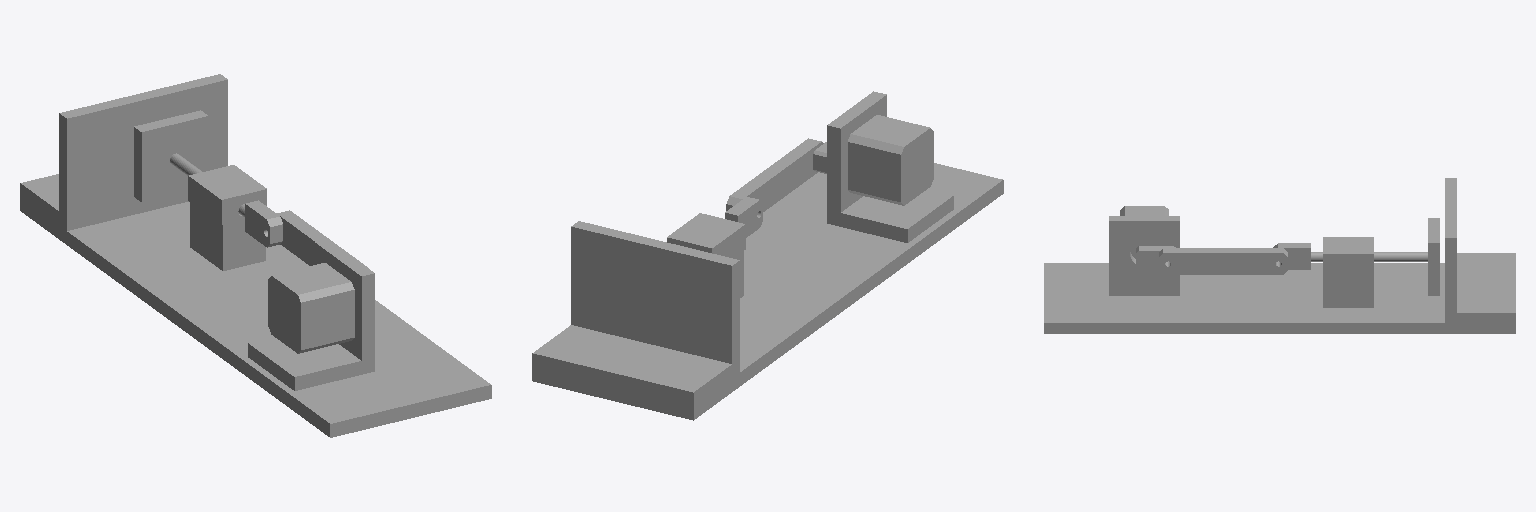
robot.urdf — Crusher:
<?xml version="1.0" ?>
<!-- =================================================================================== -->
<!-- |    This document was autogenerated by xacro from [local-path]/Desktop/Seongjin/genesis_simulation_on_linux/My_asset/Crusher_description/urdf/Crusher.xacro | -->
<!-- |    EDITING THIS FILE BY HAND IS NOT RECOMMENDED                                 | -->
<!-- =================================================================================== -->
<robot name="Crusher">
  <material name="silver">
    <color rgba="0.700 0.700 0.700 1.000"/>
  </material>
  <transmission name="Revolute 10_tran">
    <type>transmission_interface/SimpleTransmission</type>
    <joint name="Revolute 10">
      <hardwareInterface>hardware_interface/EffortJointInterface</hardwareInterface>
    </joint>
    <actuator name="Revolute 10_actr">
      <hardwareInterface>hardware_interface/EffortJointInterface</hardwareInterface>
      <mechanicalReduction>1</mechanicalReduction>
    </actuator>
  </transmission>
  <transmission name="Revolute 12_tran">
    <type>transmission_interface/SimpleTransmission</type>
    <joint name="Revolute 12">
      <hardwareInterface>hardware_interface/EffortJointInterface</hardwareInterface>
    </joint>
    <actuator name="Revolute 12_actr">
      <hardwareInterface>hardware_interface/EffortJointInterface</hardwareInterface>
      <mechanicalReduction>1</mechanicalReduction>
    </actuator>
  </transmission>
  <transmission name="Revolute 13_tran">
    <type>transmission_interface/SimpleTransmission</type>
    <joint name="Revolute 13">
      <hardwareInterface>hardware_interface/EffortJointInterface</hardwareInterface>
    </joint>
    <actuator name="Revolute 13_actr">
      <hardwareInterface>hardware_interface/EffortJointInterface</hardwareInterface>
      <mechanicalReduction>1</mechanicalReduction>
    </actuator>
  </transmission>
  <transmission name="Slider 21_tran">
    <type>transmission_interface/SimpleTransmission</type>
    <joint name="Slider 21">
      <hardwareInterface>hardware_interface/EffortJointInterface</hardwareInterface>
    </joint>
    <actuator name="Slider 21_actr">
      <hardwareInterface>hardware_interface/EffortJointInterface</hardwareInterface>
      <mechanicalReduction>1</mechanicalReduction>
    </actuator>
  </transmission>
  <gazebo>
    <plugin filename="libgazebo_ros_control.so" name="control"/>
  </gazebo>
  <gazebo reference="base_link">
    <material>Gazebo/Silver</material>
    <mu1>0.2</mu1>
    <mu2>0.2</mu2>
    <selfCollide>true</selfCollide>
    <gravity>true</gravity>
  </gazebo>
  <gazebo reference="braket1_1">
    <material>Gazebo/Silver</material>
    <mu1>0.2</mu1>
    <mu2>0.2</mu2>
    <selfCollide>true</selfCollide>
  </gazebo>
  <gazebo reference="braket2_1">
    <material>Gazebo/Silver</material>
    <mu1>0.2</mu1>
    <mu2>0.2</mu2>
    <selfCollide>true</selfCollide>
  </gazebo>
  <gazebo reference="motor_1">
    <material>Gazebo/Silver</material>
    <mu1>0.2</mu1>
    <mu2>0.2</mu2>
    <selfCollide>true</selfCollide>
  </gazebo>
  <gazebo reference="motor_shaft_1">
    <material>Gazebo/Silver</material>
    <mu1>0.2</mu1>
    <mu2>0.2</mu2>
    <selfCollide>true</selfCollide>
  </gazebo>
  <gazebo reference="Link1_1">
    <material>Gazebo/Silver</material>
    <mu1>0.2</mu1>
    <mu2>0.2</mu2>
    <selfCollide>true</selfCollide>
  </gazebo>
  <gazebo reference="Link2_1">
    <material>Gazebo/Silver</material>
    <mu1>0.2</mu1>
    <mu2>0.2</mu2>
    <selfCollide>true</selfCollide>
  </gazebo>
  <gazebo reference="Link3_1">
    <material>Gazebo/Silver</material>
    <mu1>0.2</mu1>
    <mu2>0.2</mu2>
    <selfCollide>true</selfCollide>
  </gazebo>
  <gazebo reference="slider_jig_1">
    <material>Gazebo/Silver</material>
    <mu1>0.2</mu1>
    <mu2>0.2</mu2>
    <selfCollide>true</selfCollide>
  </gazebo>
  <gazebo reference="slider_1">
    <material>Gazebo/Silver</material>
    <mu1>0.2</mu1>
    <mu2>0.2</mu2>
    <selfCollide>true</selfCollide>
  </gazebo>
  <gazebo reference="Impact_plate_1">
    <material>Gazebo/Silver</material>
    <mu1>0.2</mu1>
    <mu2>0.2</mu2>
    <selfCollide>true</selfCollide>
  </gazebo>
  <gazebo reference="shaft_1">
    <material>Gazebo/Silver</material>
    <mu1>0.2</mu1>
    <mu2>0.2</mu2>
    <selfCollide>true</selfCollide>
  </gazebo>
  <gazebo reference="Wall_1">
    <material>Gazebo/Silver</material>
    <mu1>0.2</mu1>
    <mu2>0.2</mu2>
    <selfCollide>true</selfCollide>
  </gazebo>
  <link name="base_link">
    <inertial>
      <origin rpy="0 0 0" xyz="-0.05999999999999999 0.2 0.005"/>
      <mass value="3.768"/>
      <inertia ixx="0.050271" ixy="0.0" ixz="0.0" iyy="0.004553" iyz="0.0" izz="0.054762"/>
    </inertial>
    <visual>
      <origin rpy="0 0 0" xyz="0 0 0"/>
      <geometry>
        <mesh filename="../meshes/base_link.stl" scale="0.001 0.001 0.001"/>
      </geometry>
      <material name="silver"/>
    </visual>
    <collision>
      <origin rpy="0 0 0" xyz="0 0 0"/>
      <geometry>
        <mesh filename="../meshes/base_link.stl" scale="0.001 0.001 0.001"/>
      </geometry>
    </collision>
  </link>
  <link name="braket1_1">
    <inertial>
      <origin rpy="0 0 0" xyz="0.0 0.0 0.004999999999999999"/>
      <mass value="0.28259999999999996"/>
      <inertia ixx="8.7e-05" ixy="0.0" ixz="0.0" iyy="8.7e-05" iyz="0.0" izz="0.00017"/>
    </inertial>
    <visual>
      <origin rpy="0 0 0" xyz="0.085 -0.085 -0.01"/>
      <geometry>
        <mesh filename="../meshes/braket1_1.stl" scale="0.001 0.001 0.001"/>
      </geometry>
      <material name="silver"/>
    </visual>
    <collision>
      <origin rpy="0 0 0" xyz="0.085 -0.085 -0.01"/>
      <geometry>
        <mesh filename="../meshes/braket1_1.stl" scale="0.001 0.001 0.001"/>
      </geometry>
    </collision>
  </link>
  <link name="braket2_1">
    <inertial>
      <origin rpy="0 0 0" xyz="-1.3877787807814457e-17 2.0637658249000879e-13 0.030000000000000002"/>
      <mass value="0.24406640260831106"/>
      <inertia ixx="0.000167" ixy="-0.0" ixz="-0.0" iyy="8.5e-05" iyz="0.0" izz="8.5e-05"/>
    </inertial>
    <visual>
      <origin rpy="0 0 0" xyz="0.06 -0.085 -0.02"/>
      <geometry>
        <mesh filename="../meshes/braket2_1.stl" scale="0.001 0.001 0.001"/>
      </geometry>
      <material name="silver"/>
    </visual>
    <collision>
      <origin rpy="0 0 0" xyz="0.06 -0.085 -0.02"/>
      <geometry>
        <mesh filename="../meshes/braket2_1.stl" scale="0.001 0.001 0.001"/>
      </geometry>
    </collision>
  </link>
  <link name="motor_1">
    <inertial>
      <origin rpy="0 0 0" xyz="-0.019712452586152146 7.771561172376096e-15 0.0"/>
      <mass value="0.5513081044550306"/>
      <inertia ixx="0.000156" ixy="-0.0" ixz="0.0" iyy="0.000154" iyz="-0.0" izz="0.000154"/>
    </inertial>
    <visual>
      <origin rpy="0 0 0" xyz="0.065 -0.085 -0.05"/>
      <geometry>
        <mesh filename="../meshes/motor_1.stl" scale="0.001 0.001 0.001"/>
      </geometry>
      <material name="silver"/>
    </visual>
    <collision>
      <origin rpy="0 0 0" xyz="0.065 -0.085 -0.05"/>
      <geometry>
        <mesh filename="../meshes/motor_1.stl" scale="0.001 0.001 0.001"/>
      </geometry>
    </collision>
  </link>
  <link name="motor_shaft_1">
    <inertial>
      <origin rpy="0 0 0" xyz="0.009750000000000064 2.612909888455306e-13 -7.632783294297951e-17"/>
      <mass value="0.0030056205965517504"/>
      <inertia ixx="0.0" ixy="0.0" ixz="0.0" iyy="0.0" iyz="-0.0" izz="0.0"/>
    </inertial>
    <visual>
      <origin rpy="0 0 0" xyz="0.0625 -0.085 -0.05"/>
      <geometry>
        <mesh filename="../meshes/motor_shaft_1.stl" scale="0.001 0.001 0.001"/>
      </geometry>
      <material name="silver"/>
    </visual>
    <collision>
      <origin rpy="0 0 0" xyz="0.0625 -0.085 -0.05"/>
      <geometry>
        <mesh filename="../meshes/motor_shaft_1.stl" scale="0.001 0.001 0.001"/>
      </geometry>
    </collision>
  </link>
  <link name="Link1_1">
    <inertial>
      <origin rpy="0 0 0" xyz="-0.0050000000000000044 0.009999999999977804 0.0"/>
      <mass value="0.03632431220866493"/>
      <inertia ixx="4e-06" ixy="0.0" ixz="0.0" iyy="1e-06" iyz="0.0" izz="4e-06"/>
    </inertial>
    <visual>
      <origin rpy="0 0 0" xyz="0.043 -0.085 -0.05"/>
      <geometry>
        <mesh filename="../meshes/Link1_1.stl" scale="0.001 0.001 0.001"/>
      </geometry>
      <material name="silver"/>
    </visual>
    <collision>
      <origin rpy="0 0 0" xyz="0.043 -0.085 -0.05"/>
      <geometry>
        <mesh filename="../meshes/Link1_1.stl" scale="0.001 0.001 0.001"/>
      </geometry>
    </collision>
  </link>
  <link name="Link2_1">
    <inertial>
      <origin rpy="0 0 0" xyz="0.0049999999999999975 0.046999999999995226 0.0"/>
      <mass value="0.1671053122086649"/>
      <inertia ixx="0.000166" ixy="0.0" ixz="0.0" iyy="7e-06" iyz="0.0" izz="0.000161"/>
    </inertial>
    <visual>
      <origin rpy="0 0 0" xyz="0.043 -0.105 -0.05"/>
      <geometry>
        <mesh filename="../meshes/Link2_1.stl" scale="0.001 0.001 0.001"/>
      </geometry>
      <material name="silver"/>
    </visual>
    <collision>
      <origin rpy="0 0 0" xyz="0.043 -0.105 -0.05"/>
      <geometry>
        <mesh filename="../meshes/Link2_1.stl" scale="0.001 0.001 0.001"/>
      </geometry>
    </collision>
  </link>
  <link name="Link3_1">
    <inertial>
      <origin rpy="0 0 0" xyz="-0.00499999999998451 0.011274179443502064 0.0"/>
      <mass value="0.04501812215644751"/>
      <inertia ixx="5e-06" ixy="-0.0" ixz="0.0" iyy="2e-06" iyz="-0.0" izz="4e-06"/>
    </inertial>
    <visual>
      <origin rpy="0 0 0" xyz="0.043 -0.199 -0.05"/>
      <geometry>
        <mesh filename="../meshes/Link3_1.stl" scale="0.001 0.001 0.001"/>
      </geometry>
      <material name="silver"/>
    </visual>
    <collision>
      <origin rpy="0 0 0" xyz="0.043 -0.199 -0.05"/>
      <geometry>
        <mesh filename="../meshes/Link3_1.stl" scale="0.001 0.001 0.001"/>
      </geometry>
    </collision>
  </link>
  <link name="slider_jig_1">
    <inertial>
      <origin rpy="0 0 0" xyz="0.0 5.551115123125783e-17 0.016500000000000008"/>
      <mass value="0.3564528"/>
      <inertia ixx="8.7e-05" ixy="-0.0" ixz="0.0" iyy="6.3e-05" iyz="0.0" izz="8.5e-05"/>
    </inertial>
    <visual>
      <origin rpy="0 0 0" xyz="0.0475 -0.258 -0.01"/>
      <geometry>
        <mesh filename="../meshes/slider_jig_1.stl" scale="0.001 0.001 0.001"/>
      </geometry>
      <material name="silver"/>
    </visual>
    <collision>
      <origin rpy="0 0 0" xyz="0.0475 -0.258 -0.01"/>
      <geometry>
        <mesh filename="../meshes/slider_jig_1.stl" scale="0.001 0.001 0.001"/>
      </geometry>
    </collision>
  </link>
  <link name="slider_1">
    <inertial>
      <origin rpy="0 0 0" xyz="5.460909502374989e-14 5.551115123125783e-17 0.009232017697050052"/>
      <mass value="0.18510659684556105"/>
      <inertia ixx="3.4e-05" ixy="0.0" ixz="0.0" iyy="2.5e-05" iyz="0.0" izz="4.8e-05"/>
    </inertial>
    <visual>
      <origin rpy="0 0 0" xyz="0.0475 -0.258 -0.043"/>
      <geometry>
        <mesh filename="../meshes/slider_1.stl" scale="0.001 0.001 0.001"/>
      </geometry>
      <material name="silver"/>
    </visual>
    <collision>
      <origin rpy="0 0 0" xyz="0.0475 -0.258 -0.043"/>
      <geometry>
        <mesh filename="../meshes/slider_1.stl" scale="0.001 0.001 0.001"/>
      </geometry>
    </collision>
  </link>
  <link name="Impact_plate_1">
    <inertial>
      <origin rpy="0 0 0" xyz="-9.020562075079397e-17 0.0050000000000000044 0.0"/>
      <mass value="0.19624999999999998"/>
      <inertia ixx="4.3e-05" ixy="-0.0" ixz="-0.0" iyy="8.2e-05" iyz="-0.0" izz="4.3e-05"/>
    </inertial>
    <visual>
      <origin rpy="0 0 0" xyz="0.0475 -0.326 -0.05"/>
      <geometry>
        <mesh filename="../meshes/Impact_plate_1.stl" scale="0.001 0.001 0.001"/>
      </geometry>
      <material name="silver"/>
    </visual>
    <collision>
      <origin rpy="0 0 0" xyz="0.0475 -0.326 -0.05"/>
      <geometry>
        <mesh filename="../meshes/Impact_plate_1.stl" scale="0.001 0.001 0.001"/>
      </geometry>
    </collision>
  </link>
  <link name="shaft_1">
    <inertial>
      <origin rpy="0 0 0" xyz="3.0322966360074588e-15 0.034324110671936525 -2.7755575615628914e-17"/>
      <mass value="0.03899600056038747"/>
      <inertia ixx="3.4e-05" ixy="-0.0" ixz="-0.0" iyy="0.0" iyz="-0.0" izz="3.4e-05"/>
    </inertial>
    <visual>
      <origin rpy="0 0 0" xyz="0.0475 -0.2365 -0.05"/>
      <geometry>
        <mesh filename="../meshes/shaft_1.stl" scale="0.001 0.001 0.001"/>
      </geometry>
      <material name="silver"/>
    </visual>
    <collision>
      <origin rpy="0 0 0" xyz="0.0475 -0.2365 -0.05"/>
      <geometry>
        <mesh filename="../meshes/shaft_1.stl" scale="0.001 0.001 0.001"/>
      </geometry>
    </collision>
  </link>
  <link name="Wall_1">
    <inertial>
      <origin rpy="0 0 0" xyz="0.0 -0.01346153846153847 0.02653846153846154"/>
      <mass value="1.2246"/>
      <inertia ixx="0.001126" ixy="0.0" ixz="0.0" iyy="0.00223" iyz="0.000304" izz="0.001835"/>
    </inertial>
    <visual>
      <origin rpy="0 0 0" xyz="0.06 -0.37 -0.01"/>
      <geometry>
        <mesh filename="../meshes/Wall_1.stl" scale="0.001 0.001 0.001"/>
      </geometry>
      <material name="silver"/>
    </visual>
    <collision>
      <origin rpy="0 0 0" xyz="0.06 -0.37 -0.01"/>
      <geometry>
        <mesh filename="../meshes/Wall_1.stl" scale="0.001 0.001 0.001"/>
      </geometry>
    </collision>
  </link>
  <joint name="Rigid 7" type="fixed">
    <origin rpy="0 0 0" xyz="-0.085 0.085 0.01"/>
    <parent link="base_link"/>
    <child link="braket1_1"/>
  </joint>
  <joint name="Rigid 8" type="fixed">
    <origin rpy="0 0 0" xyz="0.025 0.0 0.01"/>
    <parent link="braket1_1"/>
    <child link="braket2_1"/>
  </joint>
  <joint name="Rigid 9" type="fixed">
    <origin rpy="0 0 0" xyz="-0.005 0.0 0.03"/>
    <parent link="braket2_1"/>
    <child link="motor_1"/>
  </joint>
  <joint name="Revolute 10" type="continuous">
    <origin rpy="0 0 0" xyz="0.0025 0.0 0.0"/>
    <parent link="motor_1"/>
    <child link="motor_shaft_1"/>
    <axis xyz="1.0 0.0 0.0"/>
  </joint>
  <joint name="Rigid 11" type="fixed">
    <origin rpy="0 0 0" xyz="0.0195 0.0 0.0"/>
    <parent link="motor_shaft_1"/>
    <child link="Link1_1"/>
  </joint>
  <joint name="Revolute 12" type="continuous">
    <origin rpy="0 0 0" xyz="0.0 0.02 0.0"/>
    <parent link="Link1_1"/>
    <child link="Link2_1"/>
    <axis xyz="-1.0 0.0 0.0"/>
  </joint>
  <joint name="Revolute 13" type="continuous">
    <origin rpy="0 0 0" xyz="0.0 0.094 0.0"/>
    <parent link="Link2_1"/>
    <child link="Link3_1"/>
    <axis xyz="-1.0 0.0 0.0"/>
  </joint>
  <joint name="Rigid 15" type="fixed">
    <origin rpy="0 0 0" xyz="-0.0475 0.258 0.01"/>
    <parent link="base_link"/>
    <child link="slider_jig_1"/>
  </joint>
  <joint name="Rigid 16" type="fixed">
    <origin rpy="0 0 0" xyz="0.0 0.0 0.033"/>
    <parent link="slider_jig_1"/>
    <child link="slider_1"/>
  </joint>
  <joint name="Rigid 17" type="fixed">
    <origin rpy="0 0 0" xyz="0.0 0.0895 0.0"/>
    <parent link="shaft_1"/>
    <child link="Impact_plate_1"/>
  </joint>
  <joint name="Slider 21" type="prismatic">
    <origin rpy="0 0 0" xyz="0.0 -0.0215 0.007"/>
    <parent link="slider_1"/>
    <child link="shaft_1"/>
    <axis xyz="0.0 -1.0 0.0"/>
    <limit effort="100" lower="0.0" upper="0.0" velocity="100"/>
  </joint>
  <joint name="Rigid 22" type="fixed">
    <origin rpy="0 0 0" xyz="-0.06 0.37 0.01"/>
    <parent link="base_link"/>
    <child link="Wall_1"/>
  </joint>
</robot>

--- Render facts (derived) ---
The picture shows the robot from 3 angles, left to right: view 1: azimuth 30°, elevation 25°; view 2: azimuth 150°, elevation 25°; view 3: azimuth 270°, elevation 25°; orthographic projection.
Model Crusher with 13 links and 12 joints (3 continuous, 1 prismatic, 8 fixed), rooted at base_link, posed every joint at zero.
Visible links, largest first — view 1: base_link, Wall_1, motor_1, Impact_plate_1, braket1_1, slider_1, slider_jig_1, braket2_1, Link2_1, Link3_1; view 2: Wall_1, base_link, motor_1, braket1_1, braket2_1, Link2_1, slider_1, Link3_1; view 3: base_link, Wall_1, braket2_1, Link2_1, slider_1, slider_jig_1, Impact_plate_1, braket1_1, Link3_1, shaft_1, motor_1.
Boxes of the visible links, x1,y1,x2,y2 form: base_link: (20,197,491,437); Wall_1: (20,74,227,230); motor_1: (268,263,354,353); Impact_plate_1: (134,110,208,201); braket1_1: (248,337,374,390); slider_1: (188,165,266,224); slider_jig_1: (190,203,265,270); braket2_1: (315,239,374,360); Link2_1: (277,210,367,267); Link3_1: (245,200,282,247); Wall_1: (532,221,739,406); base_link: (532,163,1003,420); motor_1: (848,115,933,205); braket1_1: (827,189,953,242); braket2_1: (827,91,886,212); Link2_1: (726,138,823,211); slider_1: (667,213,745,257); Link3_1: (725,197,762,237); base_link: (1044,263,1515,333); Wall_1: (1445,178,1515,322); braket2_1: (1109,216,1179,284); Link2_1: (1159,248,1287,274); slider_1: (1323,237,1373,272); slider_jig_1: (1323,273,1373,307); Impact_plate_1: (1428,218,1439,295); braket1_1: (1109,285,1179,295); Link3_1: (1273,243,1310,269); shaft_1: (1311,252,1427,261); motor_1: (1120,206,1168,258).
Bounding box of the posed robot: 0.12 × 0.4 × 0.09 m (x, y, z).
13 mesh visuals loaded from 13 distinct referenced files (13 binary STL).
